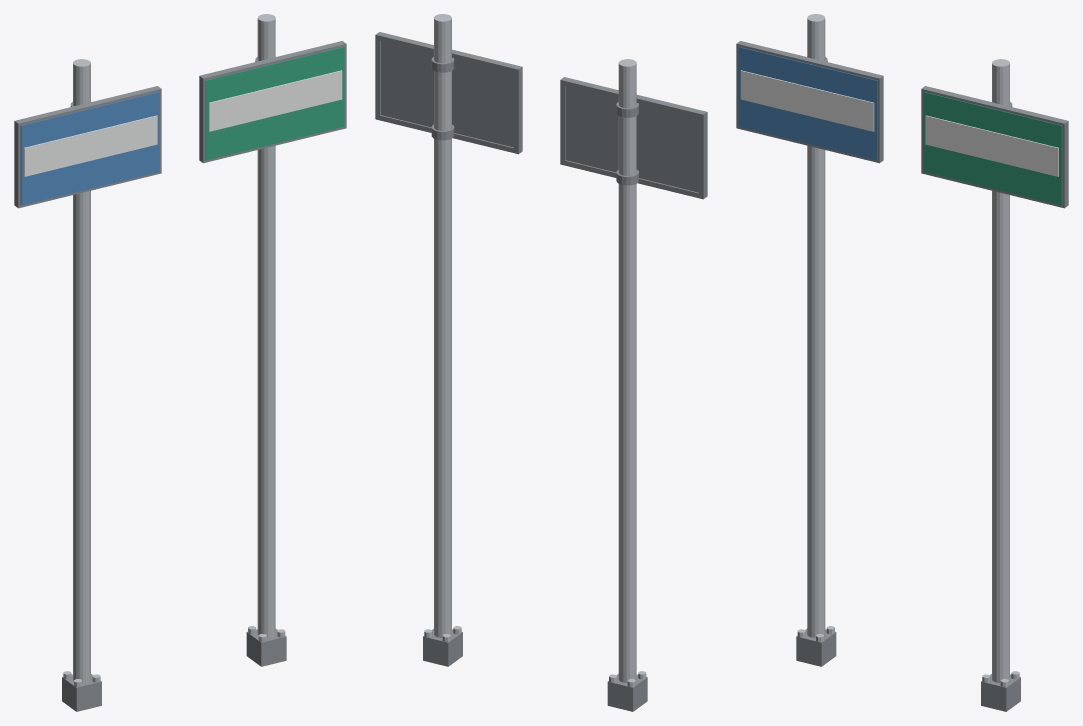
File: street_sign.glb
The picture shows the model from 3 angles, left to right: view 1: azimuth 30°, elevation 25°; view 2: azimuth 150°, elevation 25°; view 3: azimuth 330°, elevation 25°; orthographic projection.
Parts seen in each view (by area): view 1: Sign_Info, Sign_Traffic; view 2: Sign_Traffic, Sign_Info; view 3: Sign_Traffic, Sign_Info.
Part boxes in pixels (<box>): Sign_Info: <box>199,14,346,666</box>; Sign_Traffic: <box>14,59,161,711</box>; Sign_Traffic: <box>560,59,707,711</box>; Sign_Info: <box>375,14,522,666</box>; Sign_Traffic: <box>736,14,883,666</box>; Sign_Info: <box>921,59,1068,711</box>.
Size of the model in its own units: 0.142 by 0.265 by 0.0124.
